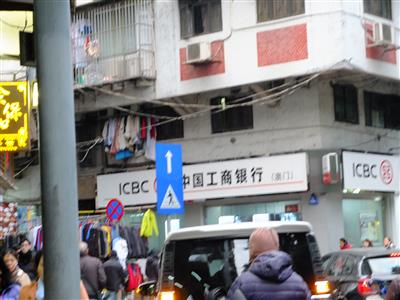oneway: (152, 140, 185, 179)
pedestrianCrossing: (154, 178, 187, 215)
